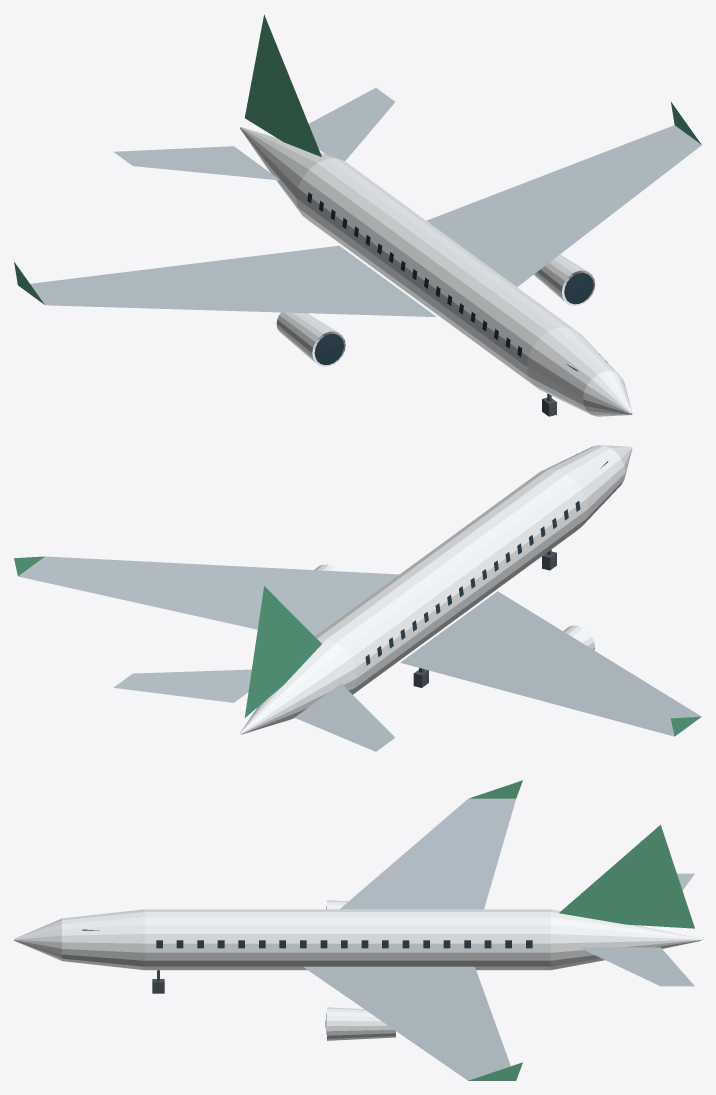
The model's file is a350-ETH.gltf.
3 views of the same model, one above another, from view 1: azimuth 30°, elevation 25°; view 2: azimuth 150°, elevation 25°; view 3: azimuth 270°, elevation 25° (orthographic). The views are drawn at different scales.
Parts seen in each view (by area): view 1: object 1; view 2: object 1, Gear; view 3: object 1.
Boxes of the visible parts, bbox=[...] form: object 1: bbox=[14, 14, 701, 416]; object 1: bbox=[14, 445, 701, 751]; Gear: bbox=[413, 549, 556, 687]; object 1: bbox=[14, 780, 701, 1080].
Bounding box in the file's own units: 65 × 17.98 × 67.
